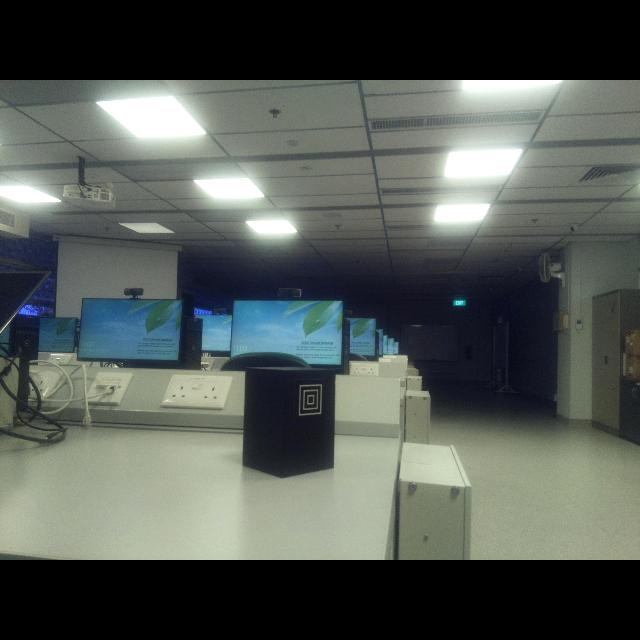BULLSEYE: (299, 385, 322, 416)
